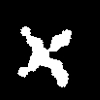single_crochet: (18, 27, 70, 86)
